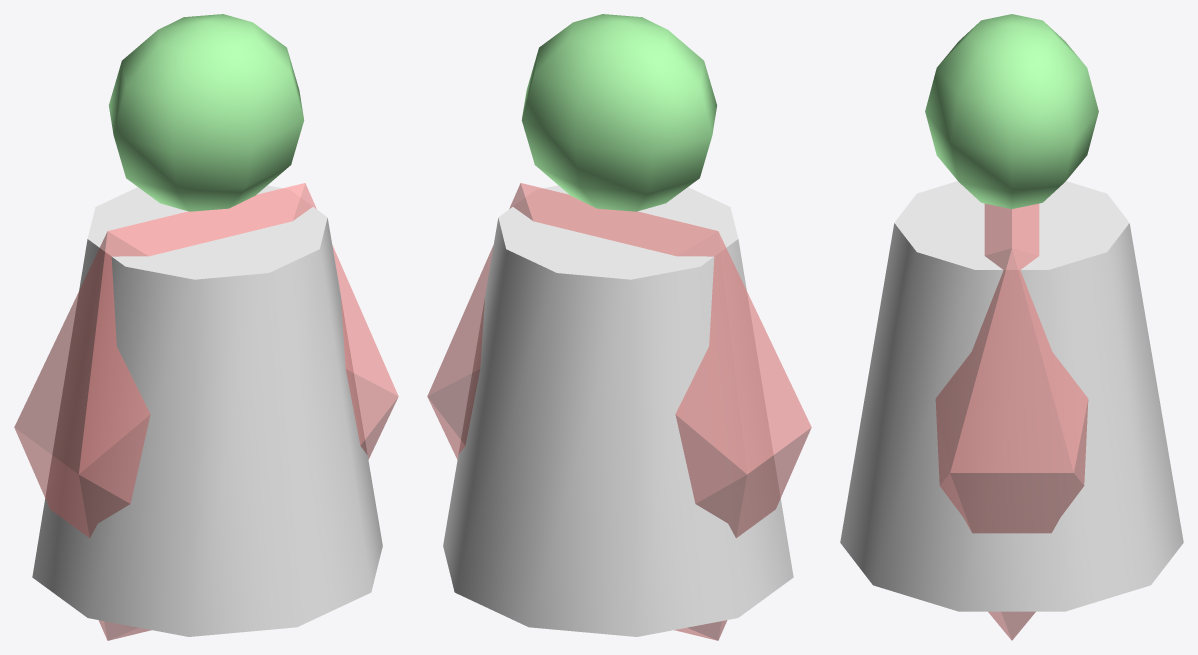
Rendered from subuser_og.gltf.
3 renders of one model, left to right at view 1: azimuth 30°, elevation 25°; view 2: azimuth 150°, elevation 25°; view 3: azimuth 270°, elevation 25°, orthographic. The views are drawn at different scales.
Visible parts, largest first — view 1: CylinderBody, Icosahedron, Sphere; view 2: CylinderBody, Icosahedron, Sphere; view 3: CylinderBody, Icosahedron, Sphere.
Part boxes in pixels (box(x1,y1,x2,y2)): CylinderBody: box(32, 185, 382, 636); Icosahedron: box(14, 183, 398, 640); Sphere: box(108, 14, 304, 211); CylinderBody: box(443, 185, 793, 636); Icosahedron: box(427, 183, 811, 640); Sphere: box(521, 14, 717, 211); CylinderBody: box(840, 181, 1183, 611); Icosahedron: box(935, 203, 1088, 640); Sphere: box(925, 14, 1098, 208).
Size of the model in its own units: 5.84 by 10.38 by 5.66.
